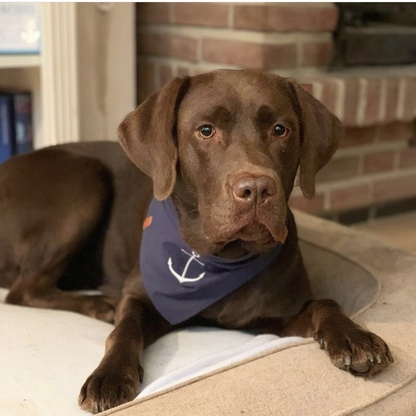labrado: (1, 62, 398, 416)
